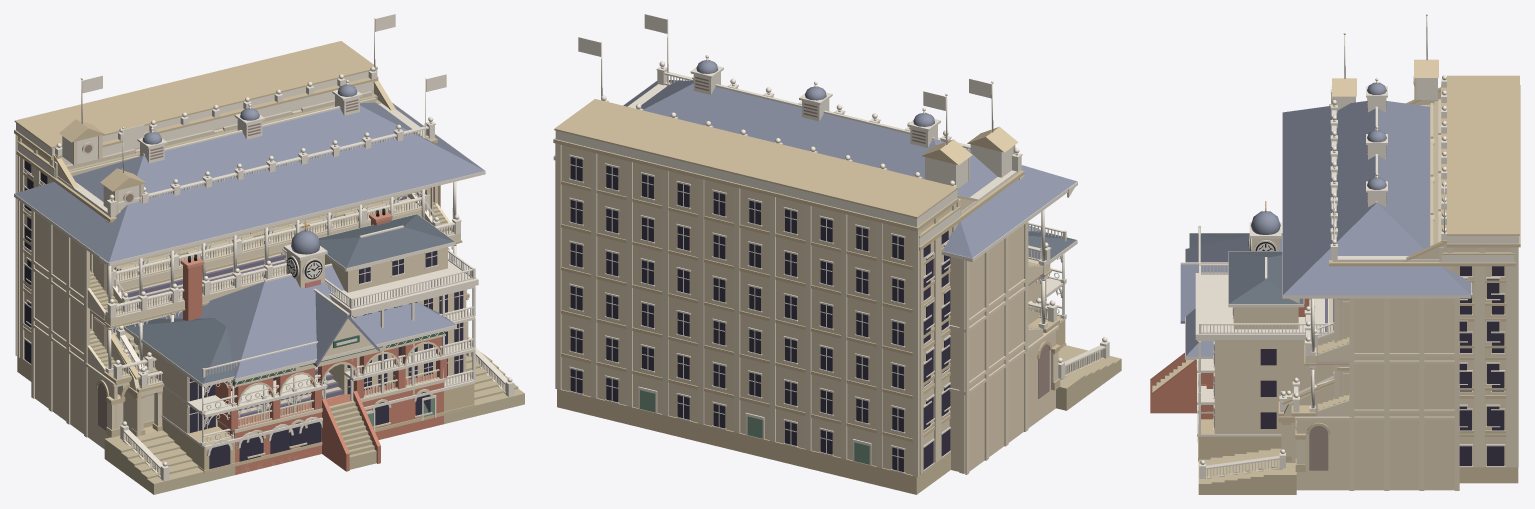
File: gen-park-l_stands.glb
3 views of the same model, side by side, from view 1: azimuth 30°, elevation 25°; view 2: azimuth 150°, elevation 25°; view 3: azimuth 270°, elevation 25° (orthographic). The views are drawn at different scales.
Visible parts, largest first — view 1: park_tiered_stand, york_pavilions, park_old_pavilion, park_roof_terrace_stand, park_balcony_stand; view 2: park_roof_terrace_stand, park_tiered_stand, park_balcony_stand, york_pavilions; view 3: park_tiered_stand, park_roof_terrace_stand, york_pavilions, park_balcony_stand, park_old_pavilion.
Part boxes in pixels (x1,y1,x2,y2): park_tiered_stand: (14,80,524,494); york_pavilions: (124,214,478,473); park_old_pavilion: (159,208,456,474); park_roof_terrace_stand: (14,14,433,421); park_balcony_stand: (16,74,514,490); park_roof_terrace_stand: (553,37,977,494); park_tiered_stand: (553,55,1121,474); park_balcony_stand: (628,14,1109,492); york_pavilions: (1028,222,1077,348); park_tiered_stand: (1198,78,1471,494); park_roof_terrace_stand: (1334,14,1520,483); york_pavilions: (1189,225,1334,461); park_balcony_stand: (1198,33,1515,483); park_old_pavilion: (1150,201,1309,419).
Bounding box in the file's own units: 43.4 × 35.42 × 36.97.
